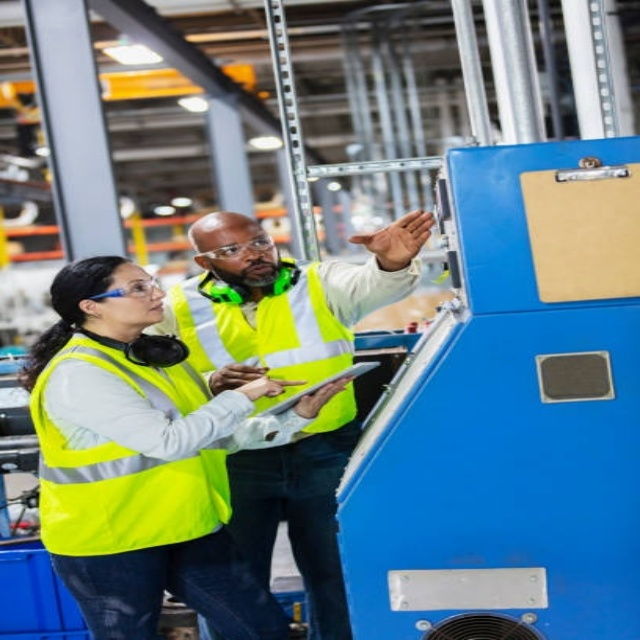Gafas: (198, 235, 277, 260), (86, 277, 163, 300)
Sin_guantes: (347, 210, 435, 262), (209, 363, 309, 399), (292, 373, 358, 416)
Sin_mascara: (237, 257, 278, 281), (133, 299, 171, 320)
